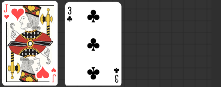3C: (65, 5, 73, 23)
